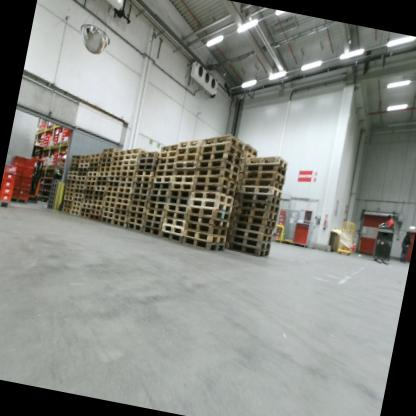forklift: (20, 139, 49, 204)
pallet: (9, 195, 234, 230), (180, 234, 269, 259), (243, 148, 289, 176), (201, 128, 246, 153), (193, 161, 239, 185), (191, 176, 235, 199), (189, 194, 232, 217), (201, 138, 244, 161), (183, 218, 228, 239), (243, 159, 287, 180), (189, 187, 235, 207), (242, 166, 285, 187), (241, 173, 284, 194), (238, 187, 281, 208), (187, 203, 232, 223), (236, 196, 280, 216), (193, 171, 237, 191), (196, 155, 240, 175), (239, 182, 282, 202), (199, 146, 242, 166), (231, 217, 275, 236), (185, 213, 229, 232), (183, 228, 227, 246), (228, 233, 270, 251), (236, 204, 278, 221), (234, 212, 276, 229), (230, 227, 273, 243), (172, 170, 196, 189), (177, 135, 203, 152), (174, 149, 199, 166), (159, 232, 184, 248), (171, 176, 193, 194), (176, 142, 200, 158), (173, 165, 195, 181), (165, 201, 188, 216), (170, 185, 192, 200), (161, 223, 183, 237), (158, 146, 177, 162), (135, 159, 155, 174), (166, 196, 190, 208), (141, 227, 165, 239), (145, 200, 169, 212), (175, 158, 197, 171), (138, 148, 158, 162), (124, 146, 147, 158), (163, 209, 186, 221), (161, 217, 184, 229), (147, 194, 168, 207), (153, 173, 173, 186), (159, 140, 179, 153), (154, 167, 173, 180), (157, 160, 176, 173), (148, 187, 169, 198), (150, 181, 171, 192), (157, 155, 176, 167), (134, 167, 153, 179), (242, 144, 258, 158), (132, 174, 152, 185), (127, 203, 147, 214), (138, 154, 156, 166), (146, 208, 167, 218), (132, 178, 151, 189), (131, 186, 150, 197), (130, 191, 148, 202), (120, 162, 136, 174), (143, 220, 162, 230), (119, 172, 134, 184), (127, 197, 147, 206), (125, 223, 143, 233), (241, 149, 257, 160), (122, 157, 138, 168), (145, 214, 163, 223), (128, 211, 146, 220), (113, 147, 126, 159), (127, 217, 144, 226), (118, 180, 133, 190), (111, 219, 126, 228), (118, 184, 131, 194), (108, 174, 121, 184), (120, 169, 134, 178), (116, 191, 130, 200), (112, 213, 126, 222), (108, 164, 122, 173), (108, 169, 120, 179), (90, 151, 102, 161), (89, 154, 101, 164), (100, 217, 113, 226), (103, 200, 116, 209), (107, 179, 120, 188), (99, 159, 112, 168), (88, 208, 101, 217), (125, 152, 139, 160), (113, 208, 127, 216), (111, 159, 122, 169), (112, 154, 124, 163), (100, 156, 112, 165), (94, 183, 106, 192), (102, 146, 117, 153), (115, 197, 128, 205), (115, 202, 128, 210), (101, 211, 114, 219), (105, 190, 118, 198), (106, 185, 119, 193), (98, 166, 111, 174), (0, 200, 10, 210), (101, 151, 112, 160), (79, 211, 90, 220), (87, 170, 98, 179), (88, 161, 99, 170), (77, 161, 89, 169), (104, 196, 117, 203), (74, 183, 87, 190), (233, 177, 242, 187), (79, 156, 90, 164), (51, 177, 62, 185), (97, 171, 109, 178), (92, 194, 104, 201), (91, 199, 103, 206), (90, 204, 102, 211), (228, 212, 236, 222), (70, 152, 80, 160), (102, 207, 115, 213), (93, 189, 104, 196), (89, 215, 100, 222), (83, 190, 94, 197), (85, 180, 96, 187), (88, 167, 99, 174), (72, 195, 83, 202), (70, 205, 81, 212), (67, 170, 78, 177), (236, 170, 244, 179), (96, 176, 108, 182), (95, 180, 107, 186), (80, 153, 90, 160), (72, 200, 82, 207), (62, 203, 72, 210), (66, 178, 76, 185), (84, 185, 95, 191), (64, 187, 75, 193), (68, 166, 79, 172), (77, 170, 86, 177), (231, 197, 237, 207), (81, 207, 91, 213), (82, 199, 92, 205), (77, 166, 87, 172), (73, 192, 83, 198), (69, 210, 79, 216), (63, 195, 73, 201), (64, 191, 74, 197), (66, 174, 76, 180), (232, 185, 240, 192), (232, 191, 239, 199), (85, 177, 96, 182), (76, 179, 85, 185), (61, 208, 70, 214), (66, 183, 75, 189), (71, 158, 80, 164), (81, 204, 91, 209), (74, 188, 84, 193), (238, 163, 244, 171), (83, 195, 92, 200), (230, 206, 236, 213), (77, 175, 85, 180), (70, 163, 78, 168), (63, 200, 72, 204), (48, 194, 54, 200), (47, 199, 53, 205), (240, 157, 245, 164), (50, 183, 57, 188), (50, 187, 56, 192), (47, 204, 52, 209), (49, 191, 55, 195)
pallet_truck: (365, 216, 399, 271)
